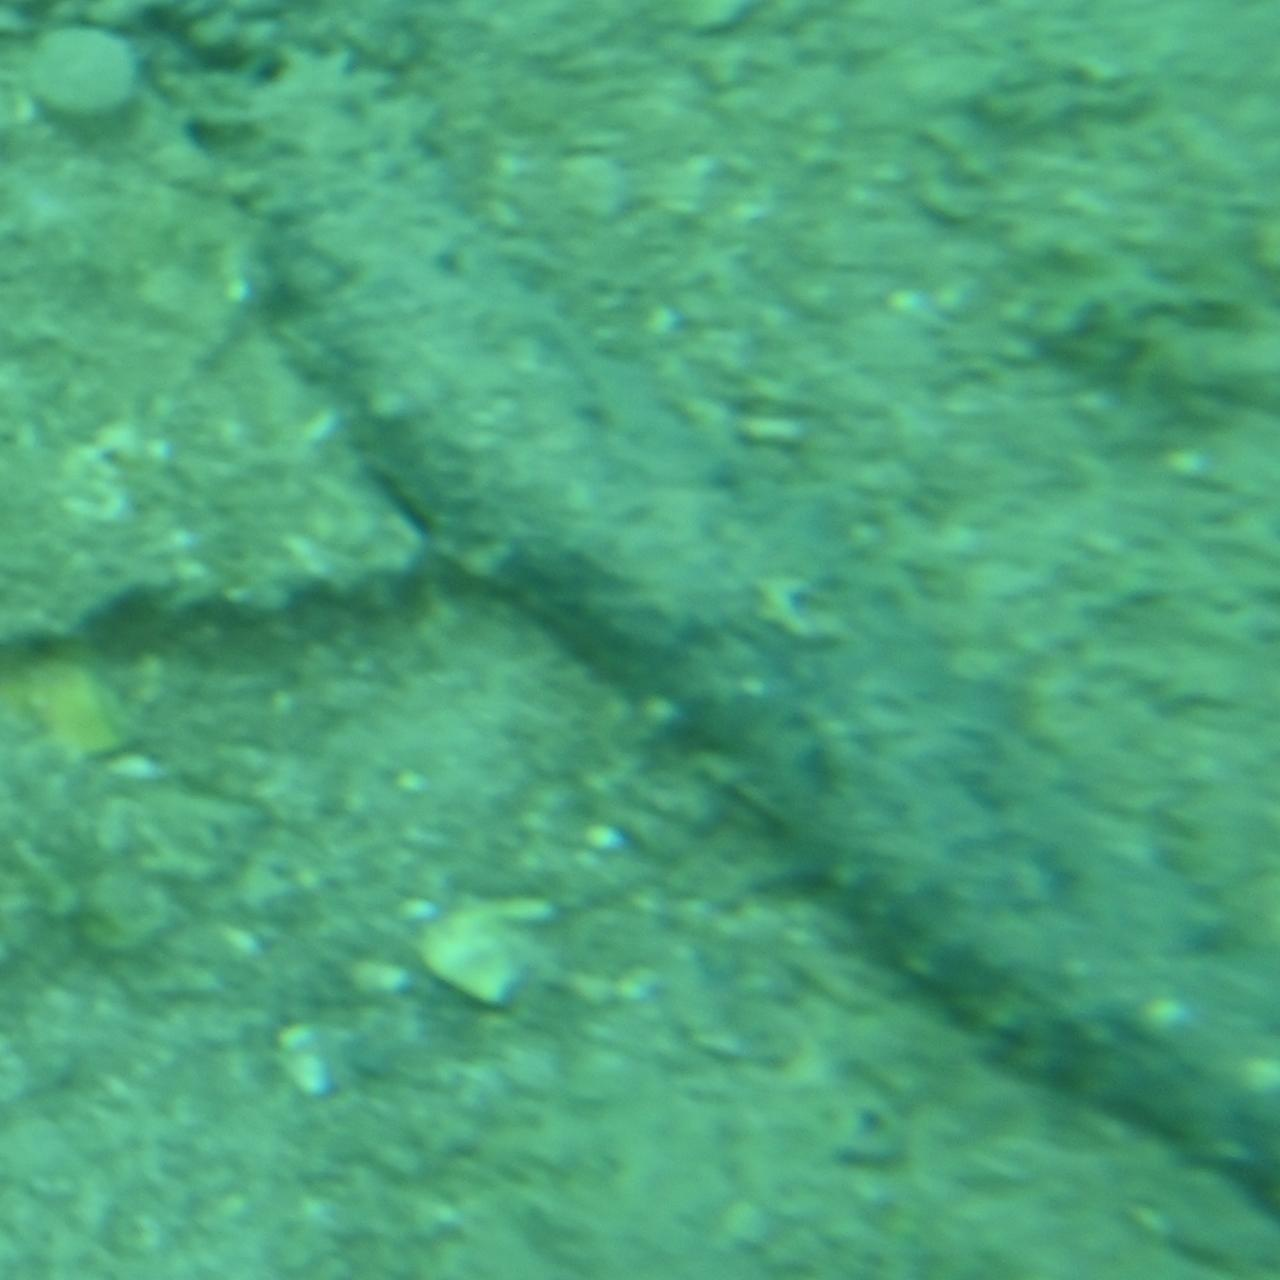Holothuria tubulosa: (221, 64, 1279, 1216)
